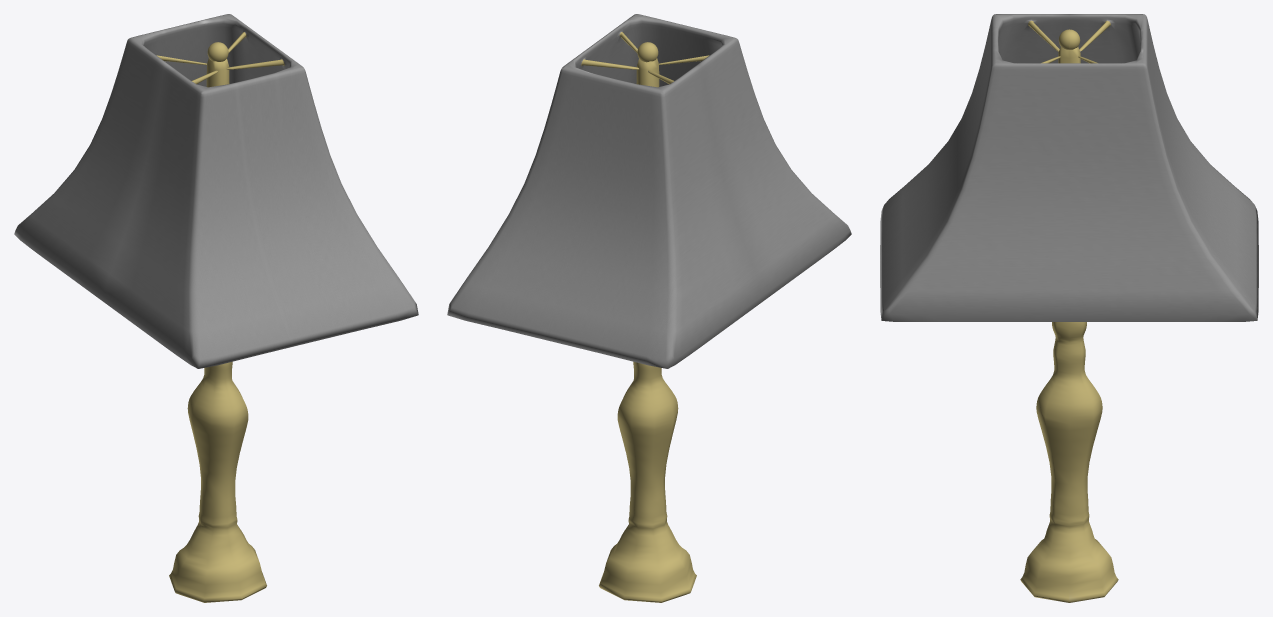
The model's file is _finalLamp.fbx.
3 renders of one model, left to right at view 1: azimuth 30°, elevation 25°; view 2: azimuth 150°, elevation 25°; view 3: azimuth 270°, elevation 25°, orthographic. The views are drawn at different scales.
Visible parts, largest first — view 1: Lamp; view 2: Lamp; view 3: Lamp.
Part boxes in pixels (x1,y1,x2,y2): Lamp: [14, 14, 418, 602]; Lamp: [447, 14, 851, 602]; Lamp: [880, 14, 1258, 602].
Size of the model in its own units: 103 by 236 by 146.
1 material, 1 textured.
